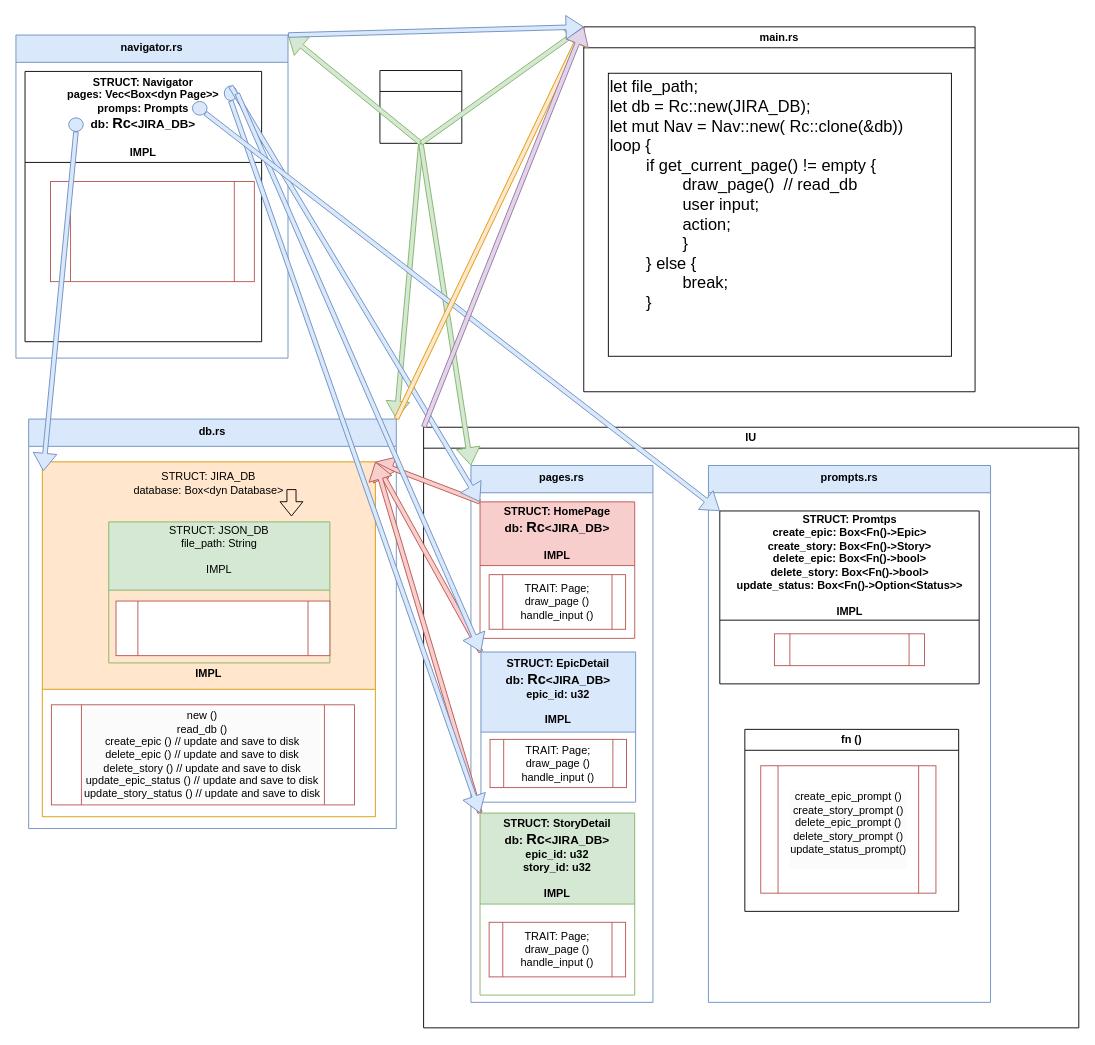
Some shapes in this 1095 by 1045 pixel diagram are drawn without their labels. Each missing label, with the centre of its shape:
"models.rs" goes at point (420, 106).
"new ()" goes at point (849, 649).
"new () // with HomePage get_current_page () handle_action ()" goes at point (152, 231).
"TRAIT: Database; read_db () -> Result< DBState> write_db () -> Result<()>" goes at point (222, 628).
